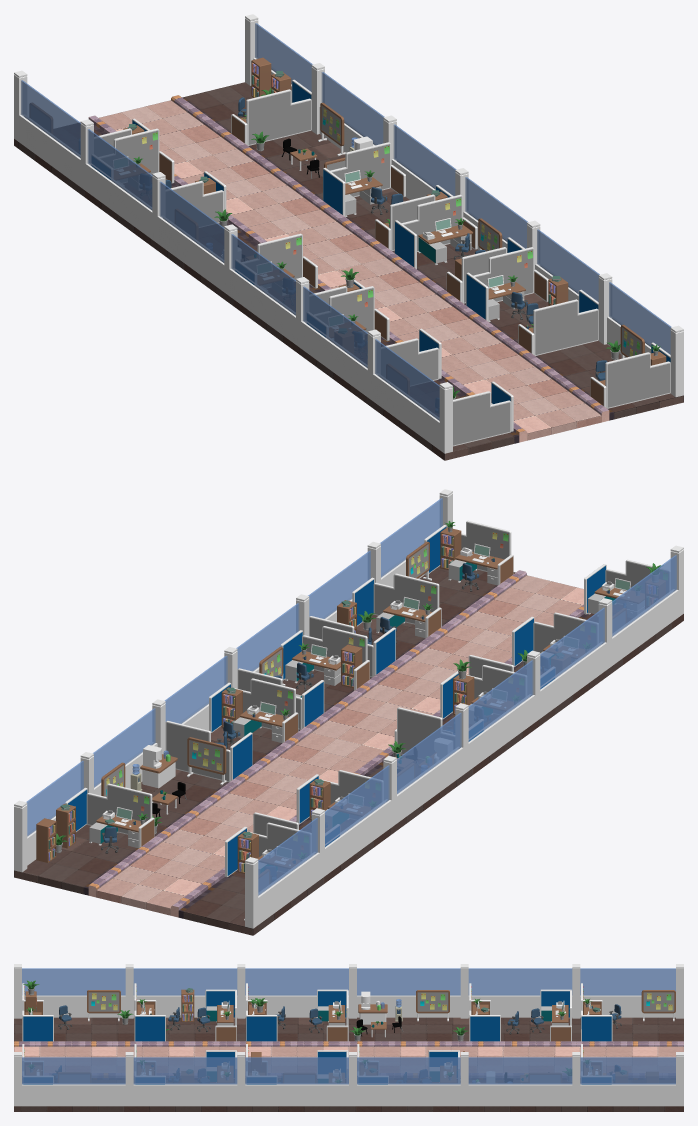
File: Crowd_Chunk01.fbx
3 renders of one model, top to bottom at view 1: azimuth 30°, elevation 25°; view 2: azimuth 150°, elevation 25°; view 3: azimuth 270°, elevation 25°, orthographic. The views are drawn at different scales.
Visible parts, largest first — view 1: Base, SideWall_023, SideWall_028, SideWall_018, SideWall_017, SideWall_015, SideWall_016, Corwd_Cabin_15, SideWall_014, Corwd_Cabin_10, Corwd_Cabin_16, SideWall_021 (+20 smaller); view 2: Base, SideWall_028, SideWall_015, SideWall_016, SideWall_018, SideWall_023, SideWall_017, SideWall_021, SideWall_027, SideWall_026, Corwd_Cabin_15, SideWall_014 (+31 smaller); view 3: Base, SideWall_024, SideWall_027, SideWall_021, SideWall_025, SideWall_014, SideWall_026, SideWall_028, SideWall_018, SideWall_017, SideWall_016, SideWall_023 (+30 smaller).
Boxes of the visible parts, box(x1,y1,x2,y2) form: Base: box(14, 82, 683, 460); SideWall_023: box(373, 339, 452, 453); SideWall_028: box(14, 70, 93, 190); SideWall_018: box(85, 129, 165, 243); SideWall_017: box(157, 181, 237, 295); SideWall_015: box(301, 286, 380, 400); SideWall_016: box(229, 234, 309, 348); Corwd_Cabin_15: box(518, 289, 598, 355); SideWall_014: box(607, 282, 683, 397); Corwd_Cabin_10: box(231, 79, 311, 145); Corwd_Cabin_16: box(590, 342, 670, 408); SideWall_021: box(245, 14, 324, 134); Base: box(14, 566, 683, 935); SideWall_028: box(245, 808, 324, 928); SideWall_015: box(540, 598, 612, 718); SideWall_016: box(468, 650, 540, 770); SideWall_018: box(325, 755, 396, 875); SideWall_023: box(612, 545, 683, 665); SideWall_017: box(396, 703, 468, 823); SideWall_021: box(14, 752, 93, 872); SideWall_027: box(93, 699, 165, 795); SideWall_026: box(164, 647, 237, 730); Corwd_Cabin_15: box(352, 573, 441, 638); SideWall_014: box(380, 489, 452, 586); Base: box(14, 1017, 683, 1111); SideWall_024: box(125, 1052, 237, 1106); SideWall_027: box(460, 1052, 572, 1106); SideWall_021: box(572, 1052, 683, 1106); SideWall_025: box(237, 1052, 348, 1106); SideWall_014: box(14, 1052, 125, 1106); SideWall_026: box(349, 1052, 460, 1106); SideWall_028: box(572, 964, 683, 1018); SideWall_018: box(460, 964, 572, 1018); SideWall_017: box(349, 964, 460, 1018); SideWall_016: box(237, 964, 348, 1018); SideWall_023: box(14, 964, 125, 1018).
Bounding box in the file's own units: 1925 × 562 × 6000.
